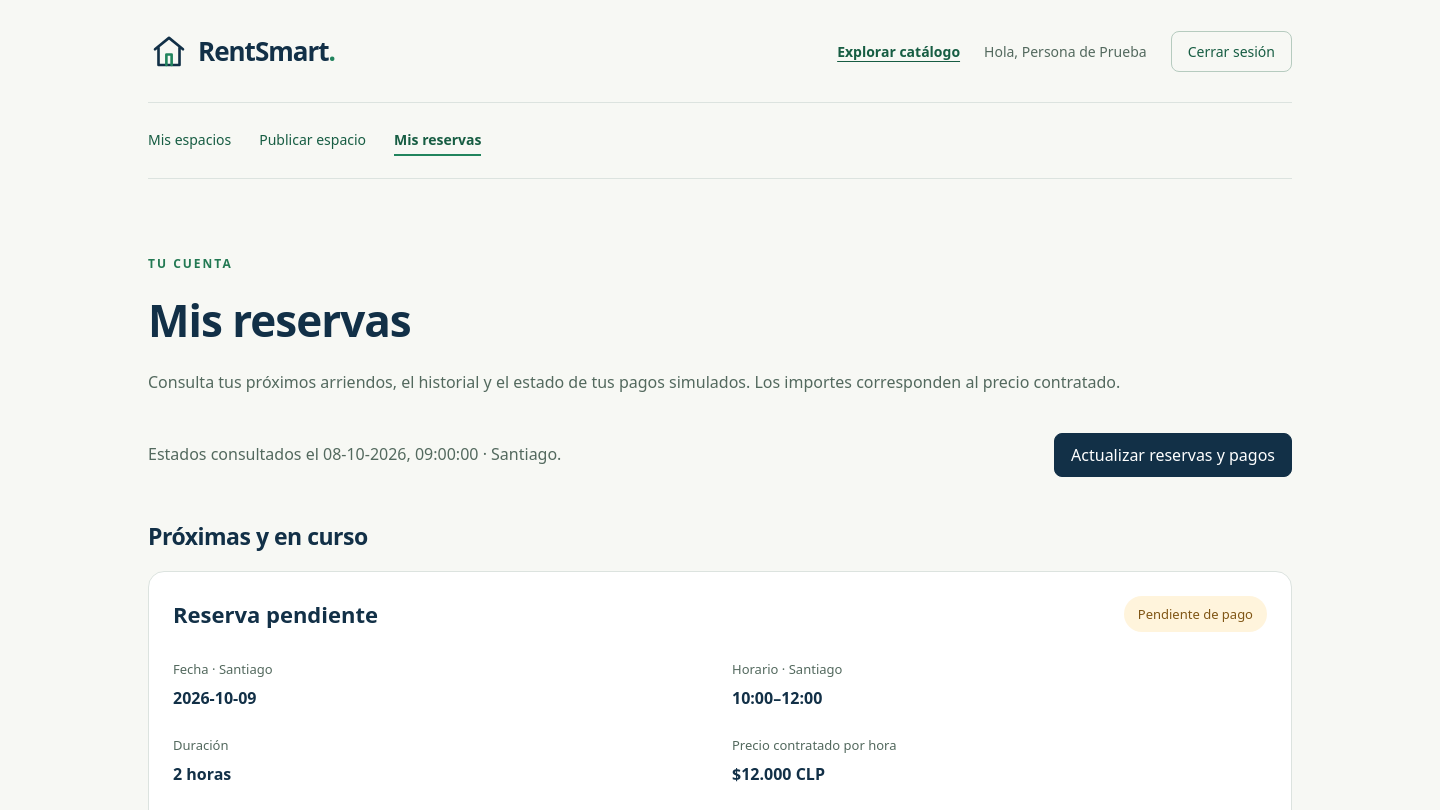
HU13: no conserva reservas de una cuenta al ingresar posteriormente con otra sesión
Click the button "Cerrar sesión".
click(1231, 51)  # box [1171,30,1292,72]
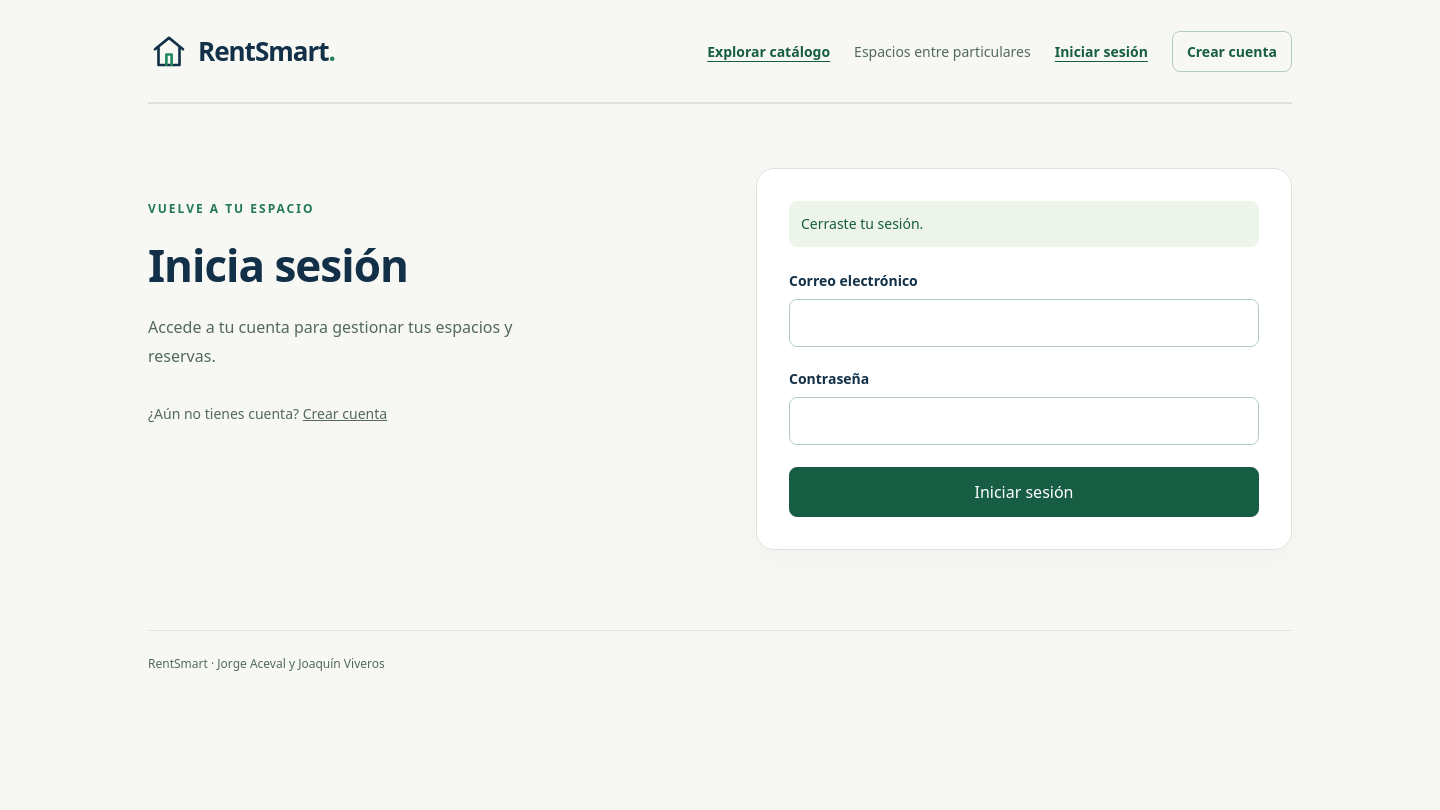
Result: the heading "Inicia sesión" is shown at [148,235,408,295]
Type "otra-cuenta@example.com" into the field labelled "Correo electrónico".
click(1024, 323); type("otra-cuenta@example.com")  # box [789,299,1259,347]
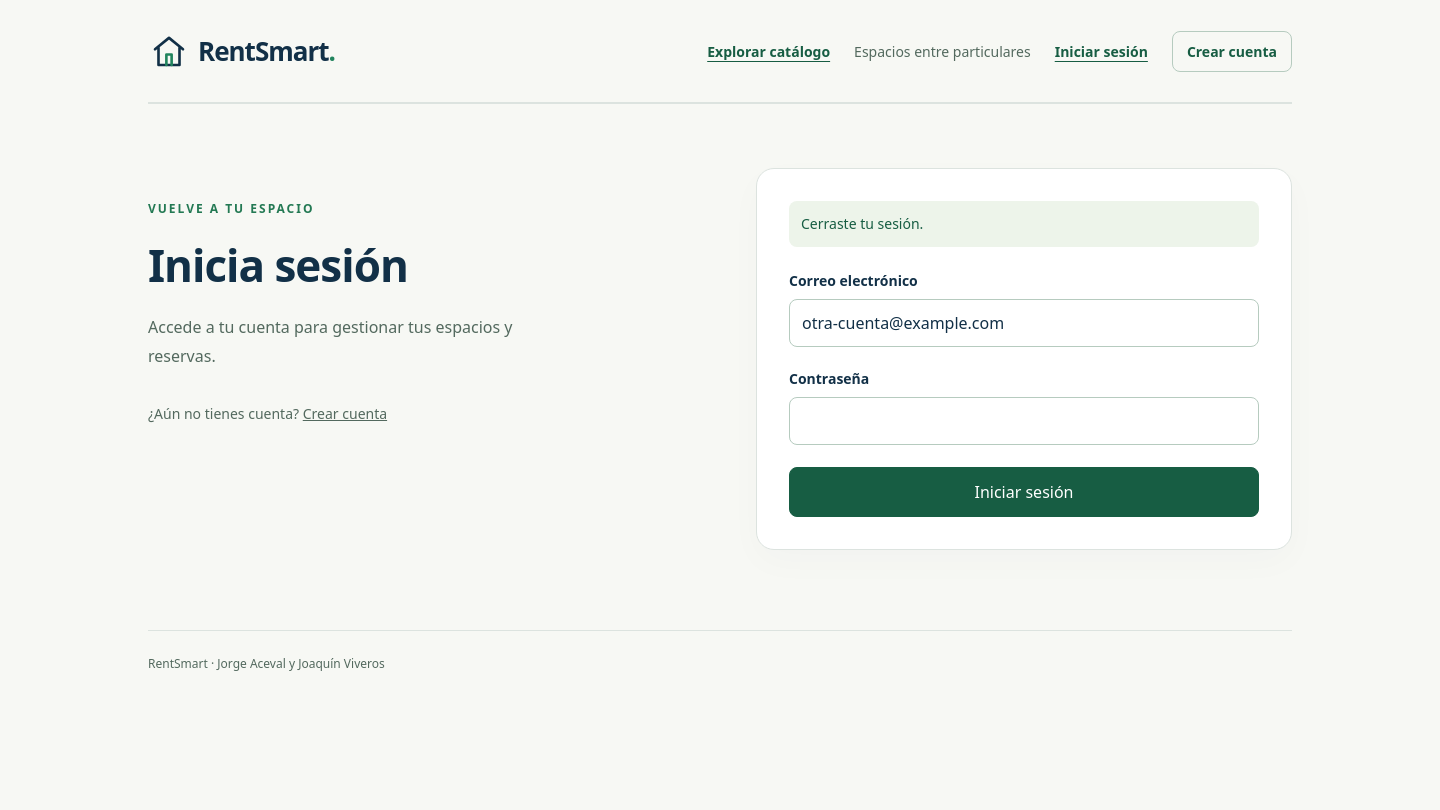
Type "Otra clave de prueba 2026!" into the password field labelled "Contraseña".
click(1024, 421); type("Otra clave de prueba 2026!")  # box [789,397,1259,445]
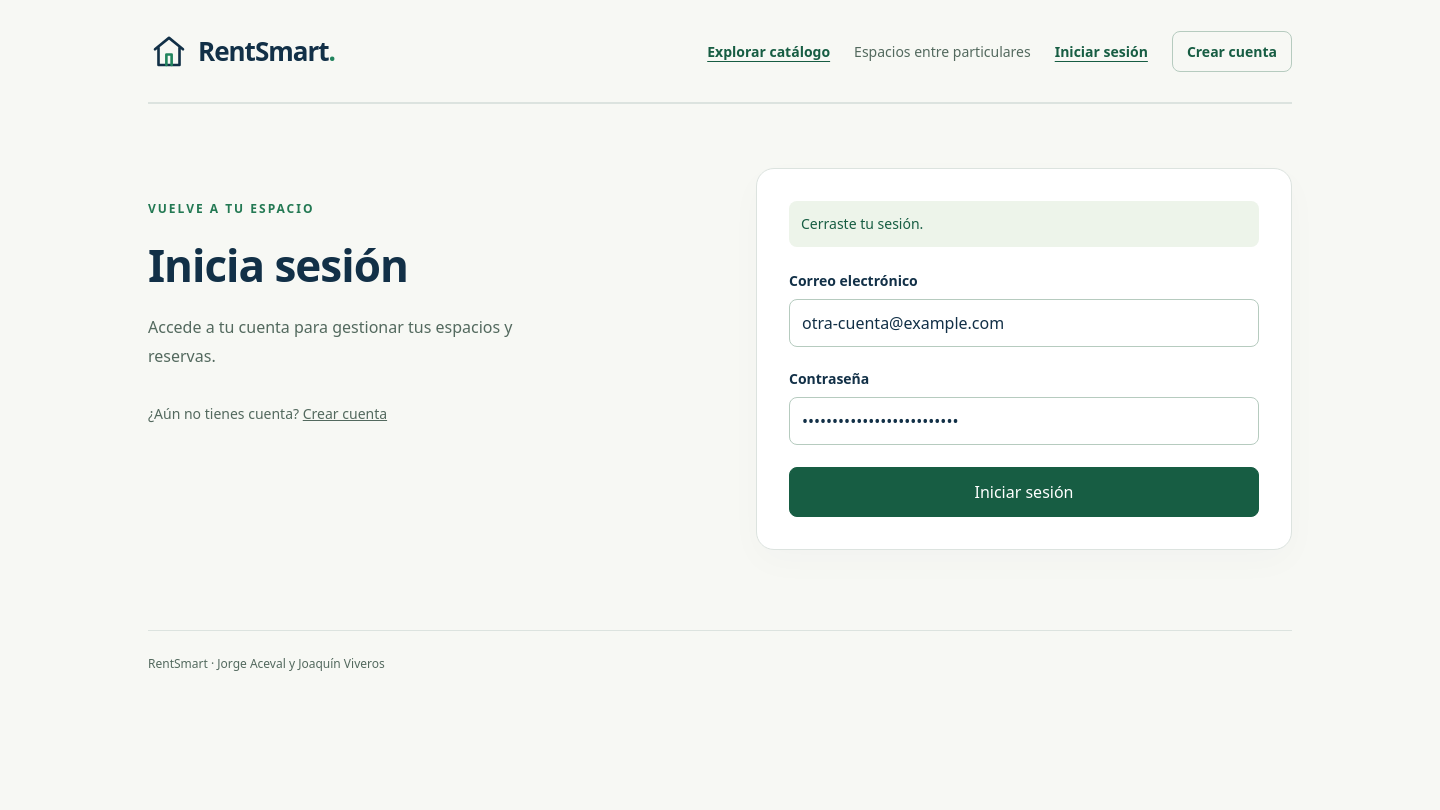
Click the button "Iniciar sesión".
click(1024, 492)  # box [789,467,1259,517]
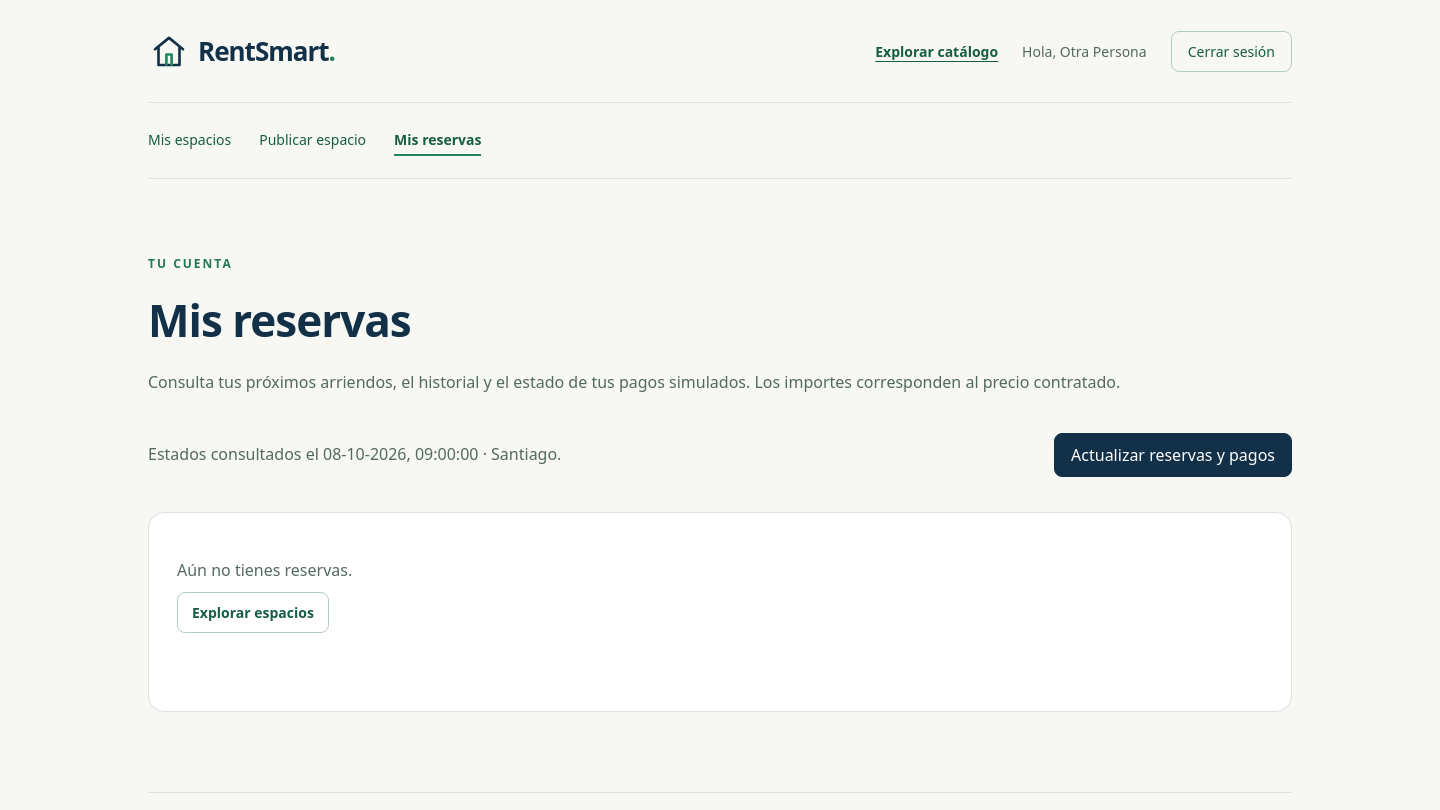
Expected: the heading "Reserva pendiente" is not shown
Result: the text "Aún no tienes reservas." is shown at [177,559,352,581]
Result: the text "Hola, Otra Persona" is shown at [1022,42,1147,60]
